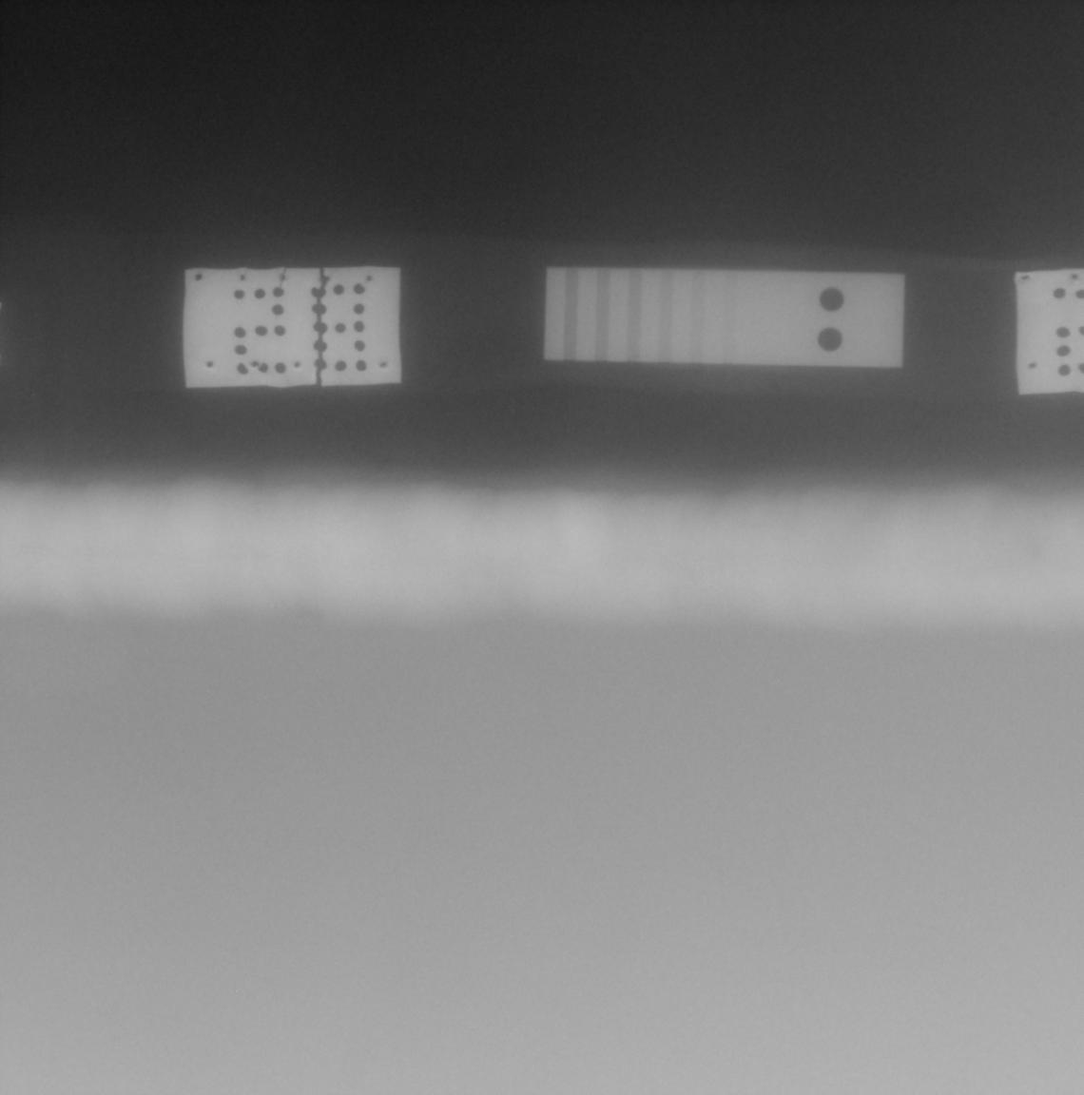Reference Standard 2: (544, 266, 905, 367)
